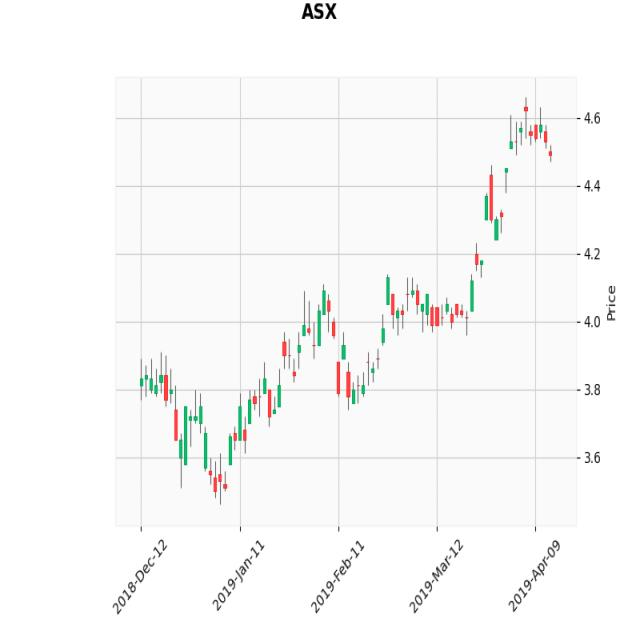Inverse-Head-Shoulders: (156, 358, 296, 505)
